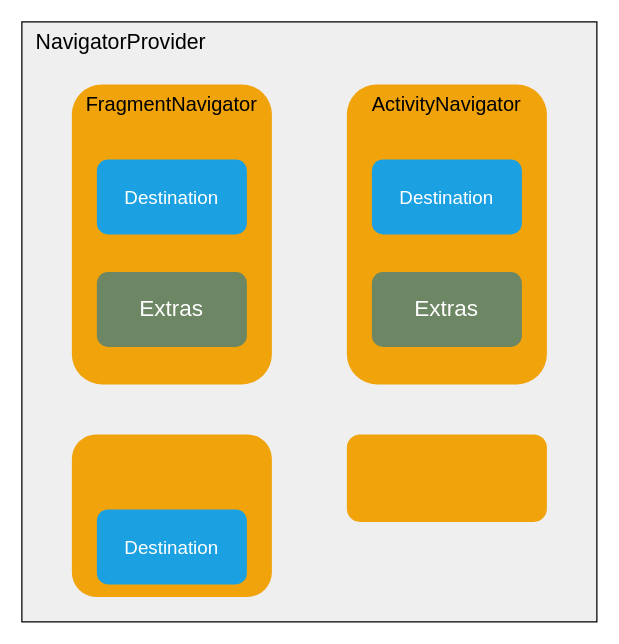
Some shapes in this 619 by 644 pixel diagram are drawn without their labels. Each missing label, with the box of its shape:
DialogFragment Navigator: (71, 434, 271, 596)
NavGraphNavigator: (346, 434, 546, 521)
